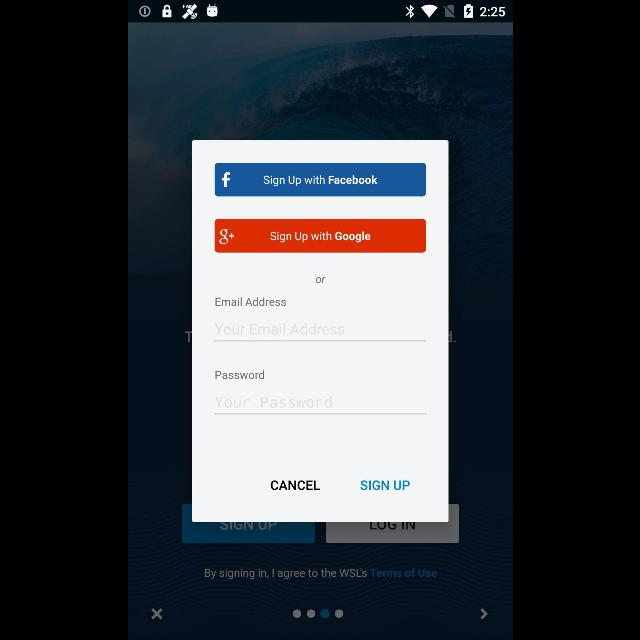icon: (150, 608, 162, 620), (479, 608, 487, 620)
input: (214, 396, 426, 414), (213, 324, 425, 342)
pageindicator: (292, 610, 342, 618)
panel: (191, 141, 447, 523)
text: (204, 568, 436, 580), (214, 323, 344, 335), (215, 397, 332, 408), (214, 298, 286, 306), (360, 480, 410, 490), (270, 480, 320, 490), (214, 370, 264, 380), (315, 277, 325, 283)
textbutton: (214, 163, 426, 197), (213, 220, 425, 252)
uppertaskbar: (128, 1, 512, 23)
